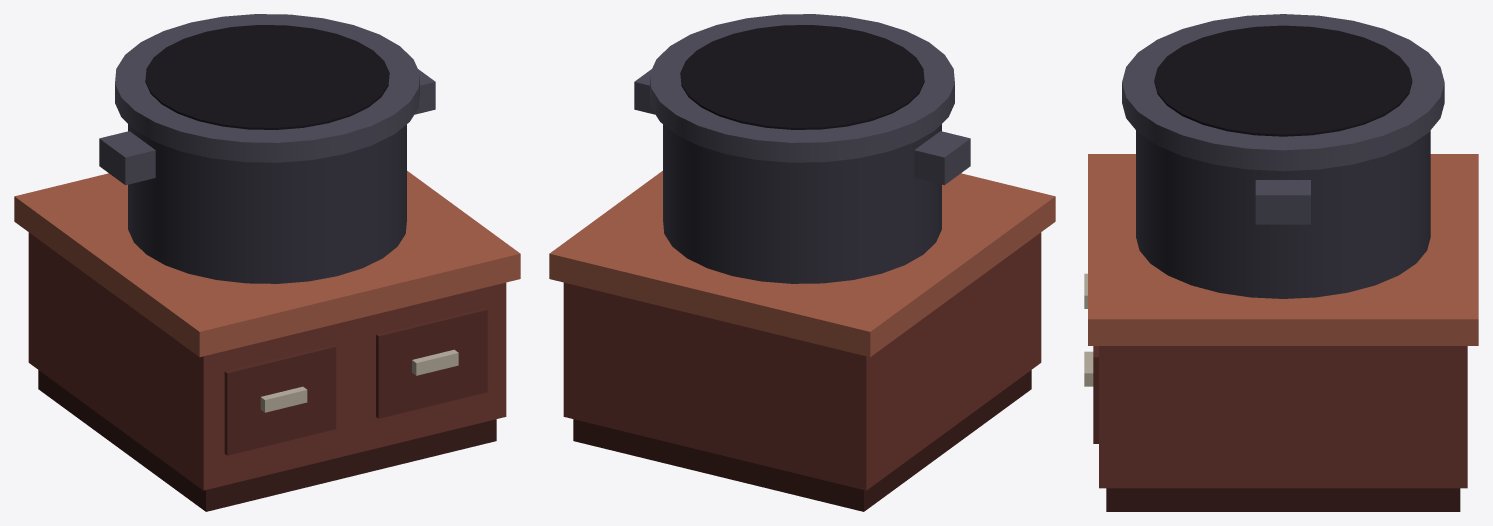
The model's file is k_ember_cauldron.glb.
3 renders of one model, left to right at view 1: azimuth 30°, elevation 25°; view 2: azimuth 150°, elevation 25°; view 3: azimuth 270°, elevation 25°, orthographic. The views are drawn at different scales.
Visible parts, largest first — view 1: piece; view 2: piece; view 3: piece.
Boxes of the visible parts, x1,y1,x2,y2 form: piece: (14, 14, 520, 511); piece: (549, 14, 1055, 511); piece: (1084, 14, 1478, 511).
Size of the model in its own units: 1.06 by 1.07 by 1.07.
